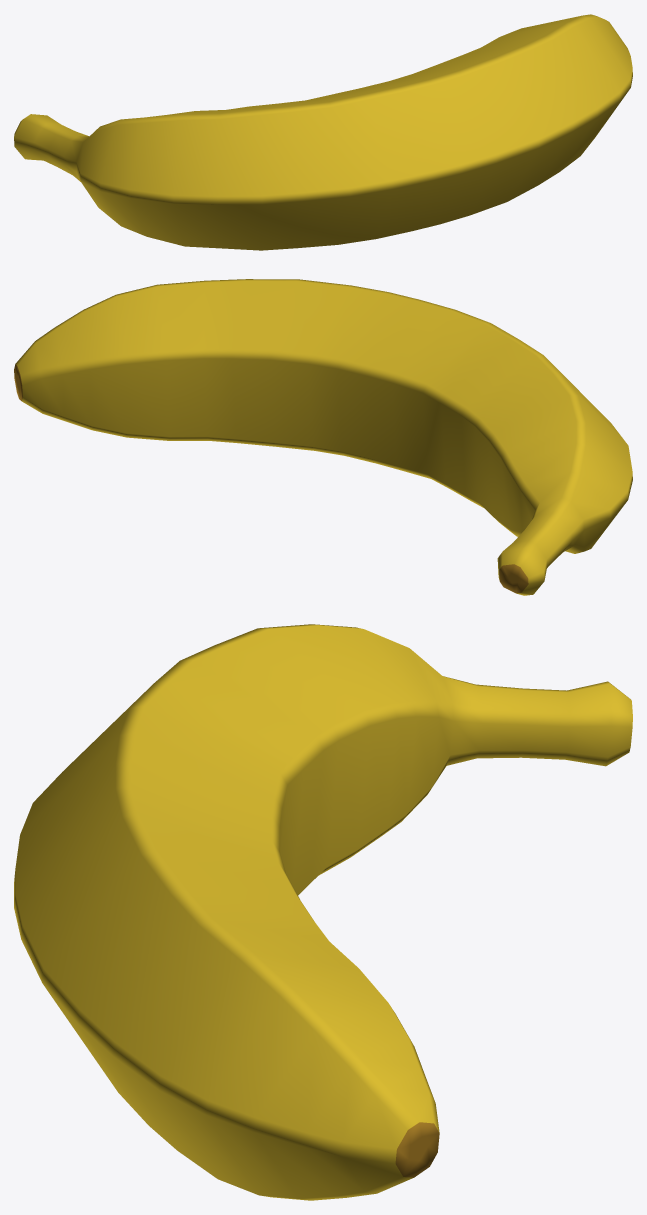
Rendered from Banana.fbx.
The picture shows the model from 3 angles, top to bottom: view 1: azimuth 30°, elevation 25°; view 2: azimuth 150°, elevation 25°; view 3: azimuth 270°, elevation 25°; orthographic projection. The views are drawn at different scales.
Visible parts, largest first — view 1: Banana; view 2: Banana; view 3: Banana.
Boxes of the visible parts, x1=… form: Banana: x1=14, y1=14, x2=632, y2=250; Banana: x1=14, y1=279, x2=632, y2=595; Banana: x1=14, y1=624, x2=632, y2=1200.
Bounding box in the file's own units: 0.4621 × 0.1147 × 0.2591.
1 material, 1 textured.
